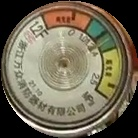green: (88, 18, 125, 52)
needle: (87, 37, 112, 55)
red: (42, 9, 92, 33)
yellow: (98, 50, 122, 104)
